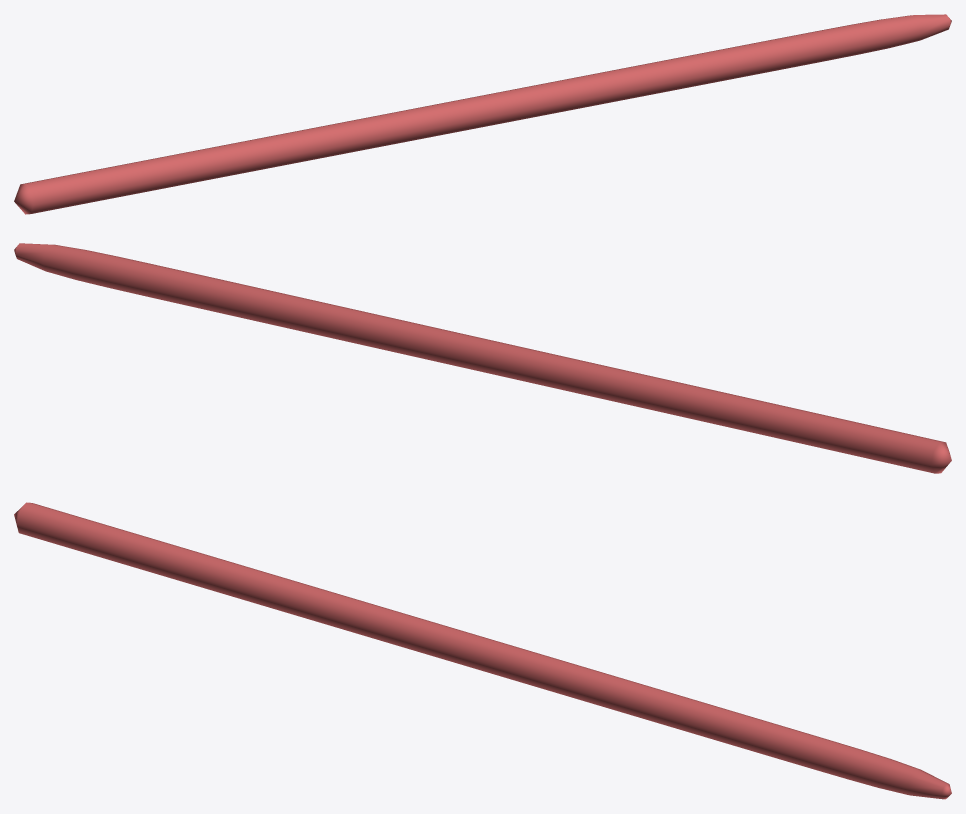
3 views of the same model, one above another, from view 1: azimuth 30°, elevation 25°; view 2: azimuth 150°, elevation 25°; view 3: azimuth 330°, elevation 25° (orthographic). The views are drawn at different scales.
Parts seen in each view (by area): view 1: brush_Disco_g0_b0; view 2: brush_Disco_g0_b0; view 3: brush_Disco_g0_b0.
Boxes of the visible parts, left/top/right/bottom form: brush_Disco_g0_b0: left=14, top=14, right=951, bottom=214; brush_Disco_g0_b0: left=14, top=243, right=951, bottom=473; brush_Disco_g0_b0: left=14, top=502, right=951, bottom=799.
Size of the model in its own units: 15.13 by 0.933 by 0.8705.
